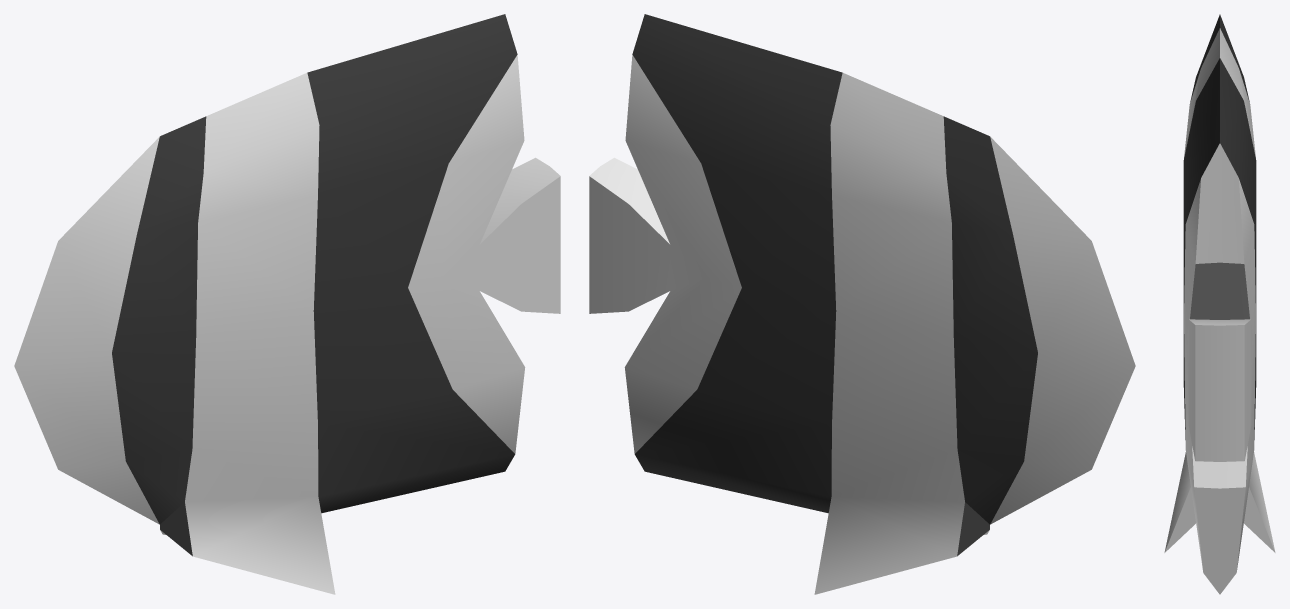
The model's file is Fish_01.fbx.
3 renders of one model, left to right at view 1: azimuth 30°, elevation 25°; view 2: azimuth 150°, elevation 25°; view 3: azimuth 270°, elevation 25°, orthographic.
Parts seen in each view (by area): view 1: Fish_01_LOD0; view 2: Fish_01_LOD0; view 3: Fish_01_LOD0.
Boxes of the visible parts, x1,y1,x2,y2 form: Fish_01_LOD0: (14,14,560,594); Fish_01_LOD0: (589,14,1135,594); Fish_01_LOD0: (1164,14,1275,594).
Size of what is drawn, in the model's own units: 0.2362 by 0.2158 by 0.043.
